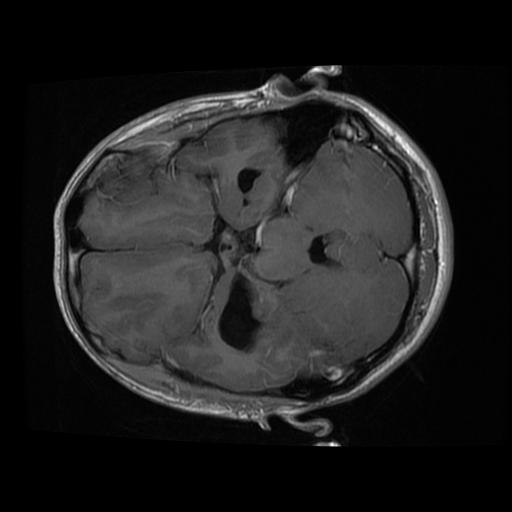glioma: (221, 275, 257, 352)
